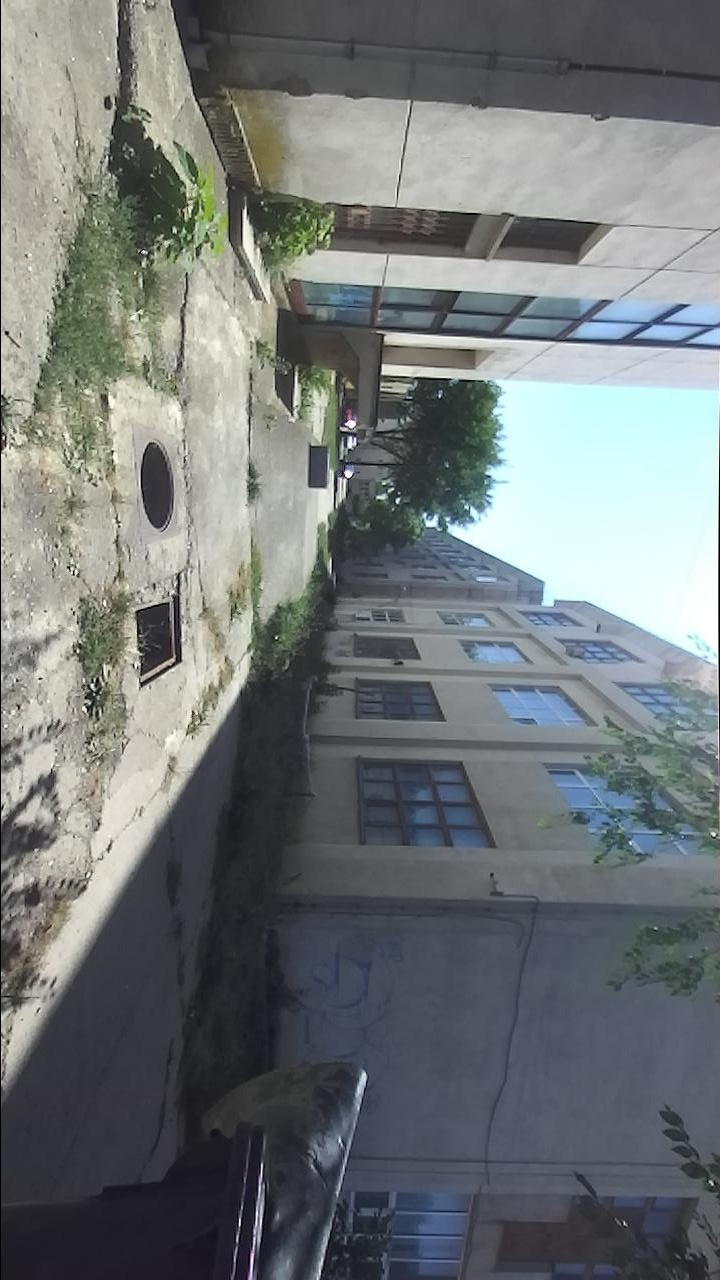drain: (131, 590, 184, 694), (137, 432, 178, 538)
